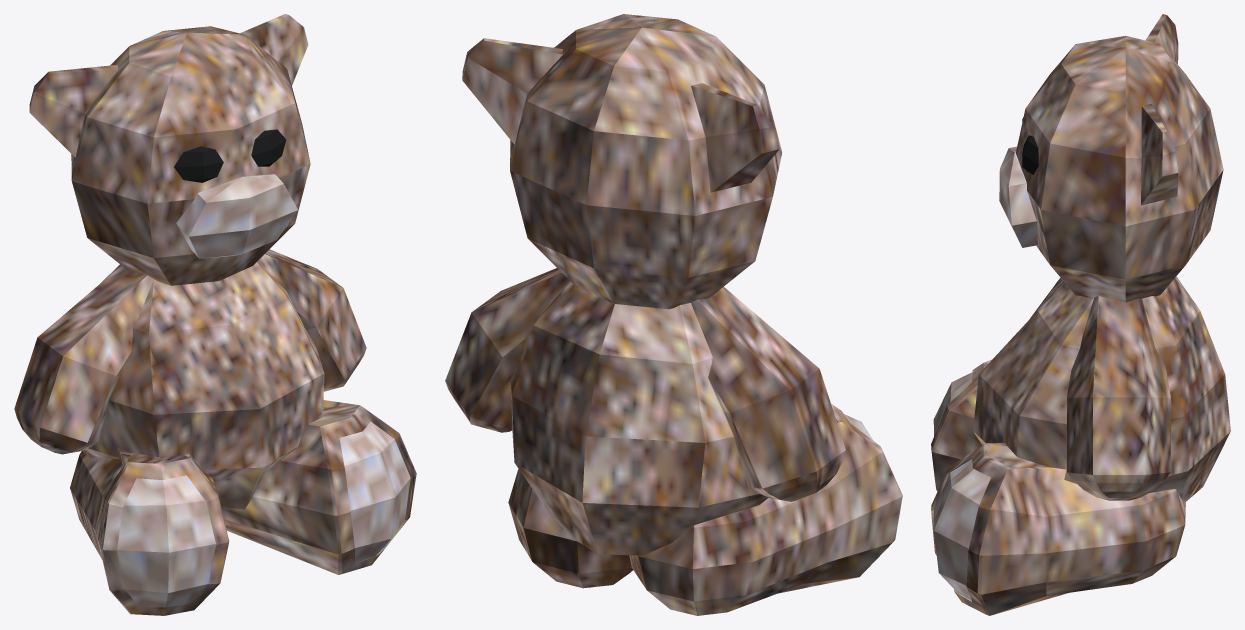
File: TeddyBear.fbx
3 renders of one model, left to right at view 1: azimuth 30°, elevation 25°; view 2: azimuth 150°, elevation 25°; view 3: azimuth 270°, elevation 25°, orthographic. The views are drawn at different scales.
Parts seen in each view (by area): view 1: TeddyBear; view 2: TeddyBear; view 3: TeddyBear.
Boxes of the visible parts, left/top/right/bottom form: TeddyBear: left=14, top=14, right=416, bottom=615; TeddyBear: left=445, top=14, right=902, bottom=615; TeddyBear: left=931, top=14, right=1230, bottom=615.
Bounding box in the file's own units: 41.91 × 61.56 × 33.
